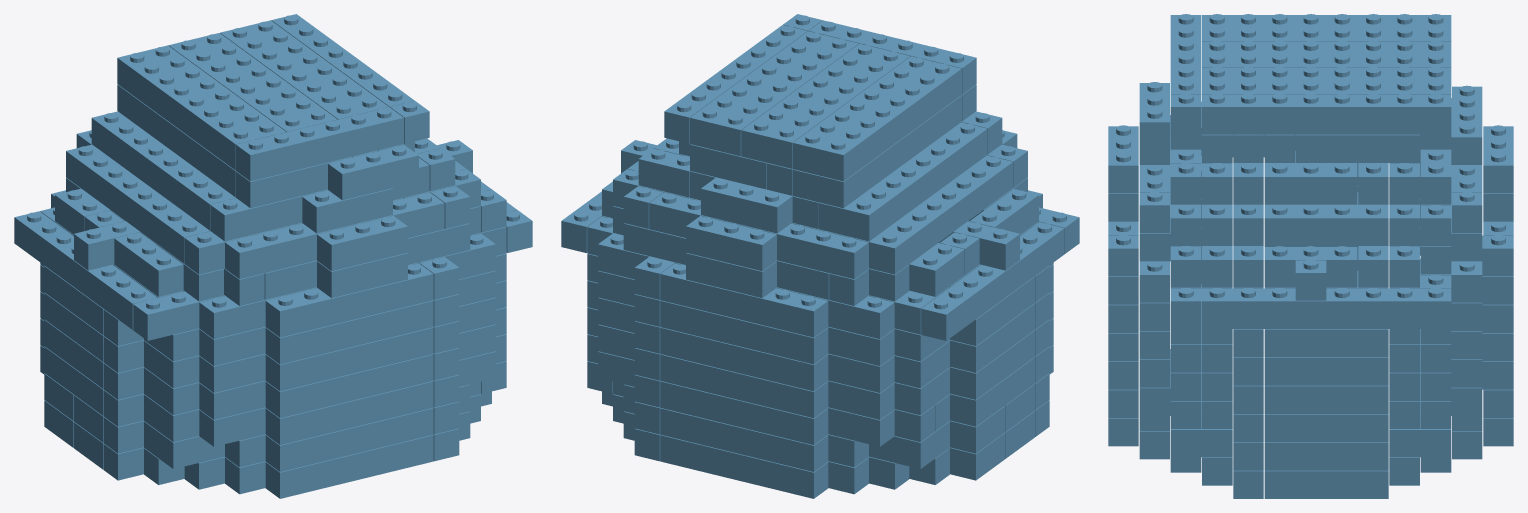
Rendered from 049_birdhouse_L4.glb.
The picture shows the model from 3 angles, left to right: view 1: azimuth 30°, elevation 25°; view 2: azimuth 150°, elevation 25°; view 3: azimuth 270°, elevation 25°; orthographic projection. The views are drawn at different scales.
Bounding box in the file's own units: 14.98 × 12.13 × 12.98.
